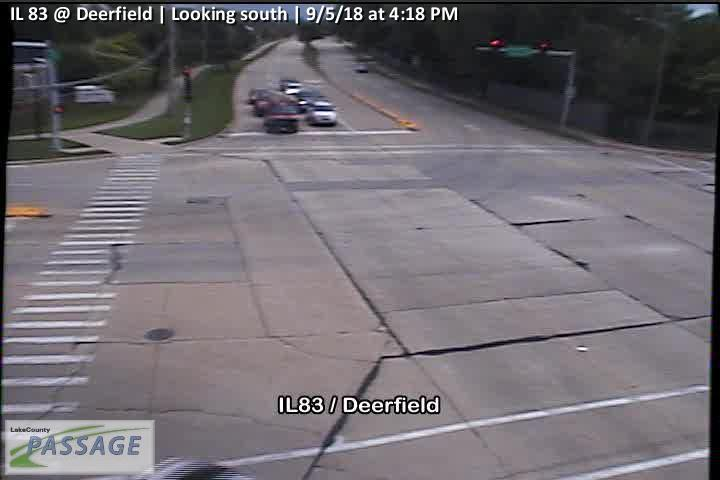Sedan: (261, 103, 300, 136), (305, 100, 338, 125)
